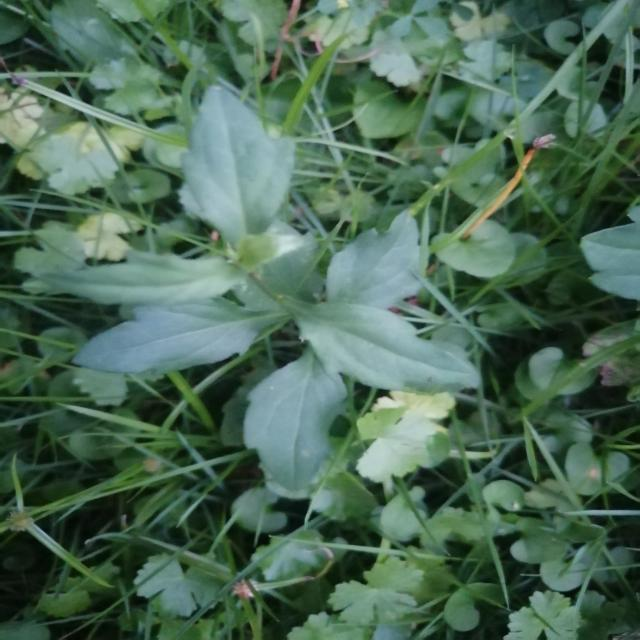Indian aster: (85, 98, 463, 434)
